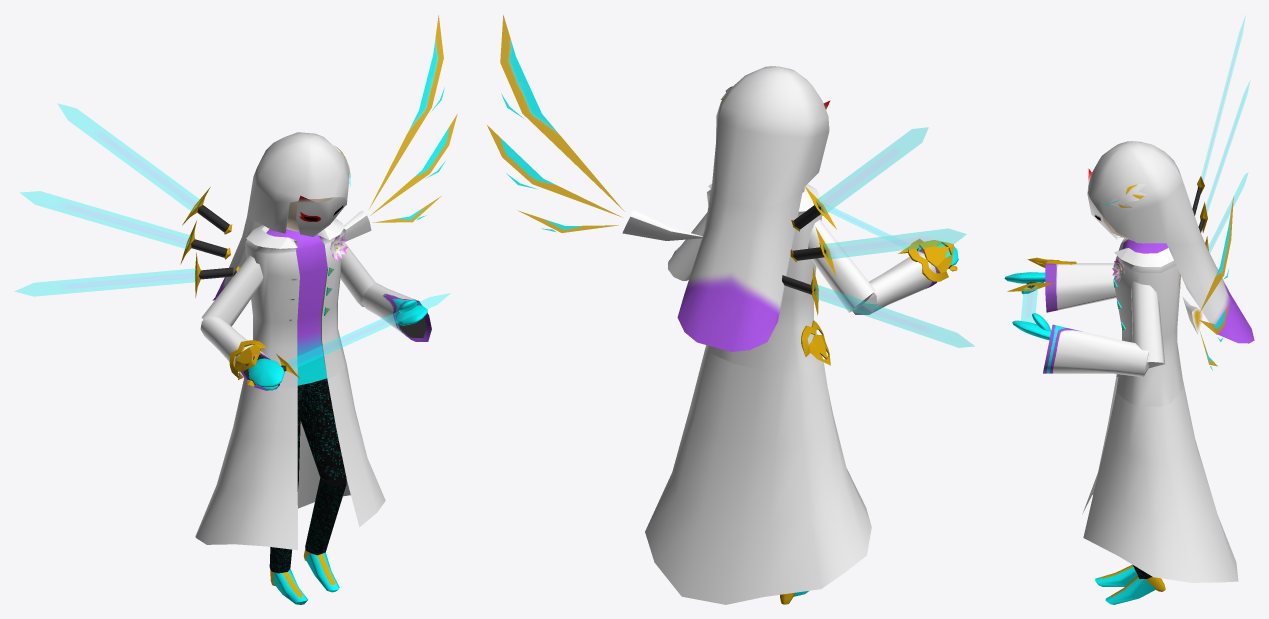
The model's file is character_assessment.glb.
3 views of the same model, side by side, from view 1: azimuth 30°, elevation 25°; view 2: azimuth 150°, elevation 25°; view 3: azimuth 270°, elevation 25° (orthographic). The views are drawn at different scales.
Parts seen in each view (by area): view 1: bodybase, head, middlesword, topsword, bottomsword, leftupperleg, rightlowerarm, handsword, rightupperarm, leftlowerleg, lowerleftarm, topwing (+5 smaller); view 2: bodybase, head, rightlowerarm, topsword, bottomsword, middlesword, rightupperarm, topwing, middewing, wingbase, upperleftarm, hiparmour; view 3: bodybase, head, lowerleftarm, rightlowerarm, upperleftarm, leftfoot, topsword, handsword, middlesword, topwing, lefthand, rightfoot (+2 smaller).
Boxes of the visible parts, x1=… form: bodybase: x1=195, y1=218, x2=385, y2=550; head: x1=212, y1=132, x2=350, y2=300; middlesword: x1=20, y1=191, x2=230, y2=264; topsword: x1=58, y1=103, x2=232, y2=234; bottomsword: x1=15, y1=252, x2=239, y2=297; leftupperleg: x1=300, y1=390, x2=346, y2=479; rightlowerarm: x1=200, y1=317, x2=279, y2=390; handsword: x1=247, y1=293, x2=450, y2=386; rightupperarm: x1=201, y1=255, x2=263, y2=326; leftlowerleg: x1=305, y1=477, x2=346, y2=555; lowerleftarm: x1=361, y1=282, x2=431, y2=341; topwing: x1=369, y1=15, x2=443, y2=208; bodybase: x1=645, y1=183, x2=871, y2=604; head: x1=677, y1=66, x2=830, y2=351; rightlowerarm: x1=852, y1=239, x2=953, y2=314; topsword: x1=791, y1=127, x2=928, y2=231; bottomsword: x1=782, y1=266, x2=974, y2=347; middlesword: x1=790, y1=227, x2=966, y2=276; rightupperarm: x1=808, y1=219, x2=875, y2=312; topwing: x1=500, y1=15, x2=624, y2=211; middewing: x1=487, y1=125, x2=622, y2=217; wingbase: x1=622, y1=209, x2=702, y2=240; upperleftarm: x1=668, y1=212, x2=707, y2=280; hiparmour: x1=801, y1=320, x2=830, y2=365; bodybase: x1=1082, y1=235, x2=1238, y2=582; head: x1=1087, y1=141, x2=1254, y2=343; lowerleftarm: x1=1043, y1=324, x2=1148, y2=377; rightlowerarm: x1=1027, y1=257, x2=1116, y2=312; upperleftarm: x1=1131, y1=281, x2=1165, y2=368; leftfoot: x1=1105, y1=576, x2=1165, y2=604; topsword: x1=1192, y1=17, x2=1245, y2=215; handsword: x1=1007, y1=282, x2=1054, y2=329; middlesword: x1=1198, y1=81, x2=1249, y2=232; topwing: x1=1199, y1=196, x2=1233, y2=313; lefthand: x1=1012, y1=313, x2=1050, y2=340; rightfoot: x1=1095, y1=564, x2=1137, y2=586.
Size of the model in its own units: 0.0911 by 0.0987 by 0.0457.
Materials: 4 (4 with a texture image).
